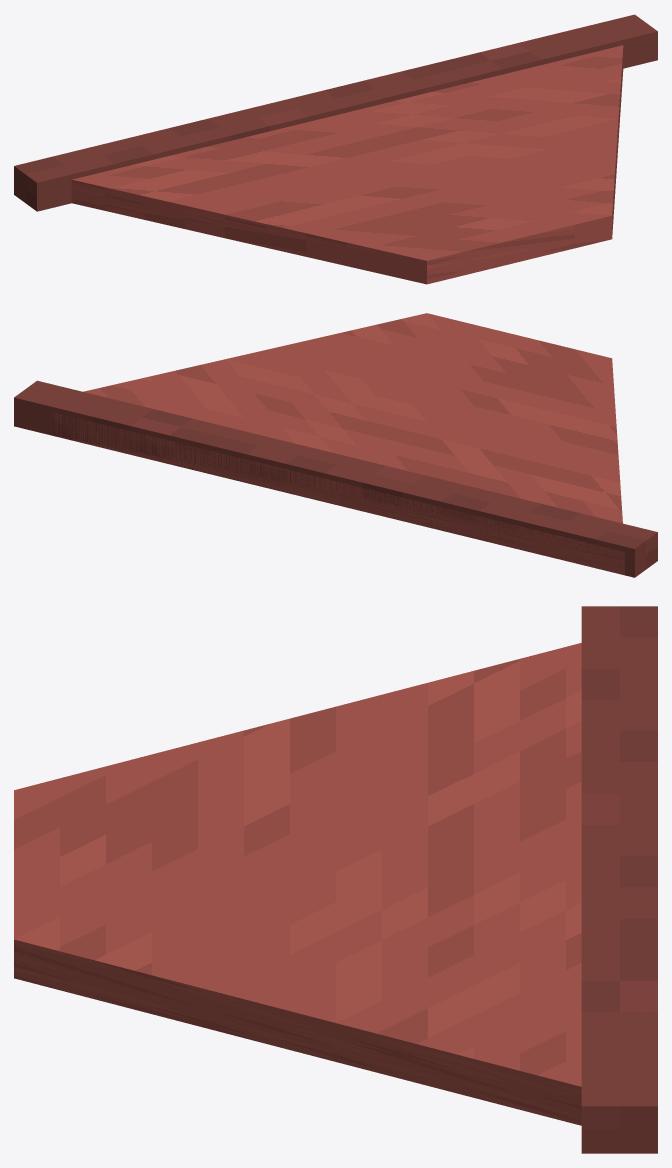
File: bikini_bottom_short.glb
3 views of the same model, one above another, from view 1: azimuth 30°, elevation 25°; view 2: azimuth 150°, elevation 25°; view 3: azimuth 270°, elevation 25° (orthographic). The views are drawn at different scales.
Parts seen in each view (by area): view 1: block_briefs panel, block_elastic band; view 2: block_briefs panel, block_elastic band; view 3: block_briefs panel, block_elastic band.
Boxes of the visible parts, <box> form: block_briefs panel: <box>71,45,623,284</box>; block_elastic band: <box>14,14,657,211</box>; block_briefs panel: <box>24,313,624,575</box>; block_elastic band: <box>14,380,657,577</box>; block_briefs panel: <box>14,643,581,1125</box>; block_elastic band: <box>581,606,657,1153</box>.
Size of the model in its own units: 0.1807 by 0.00801 by 0.0983.
Materials: 1 (1 with a texture image).
